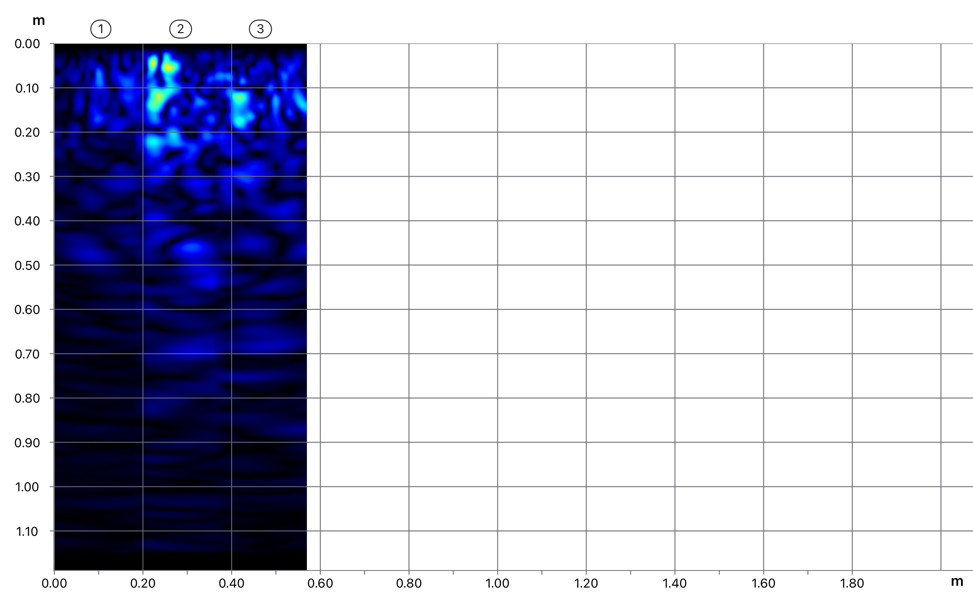crop: (0, 2, 307, 287)
